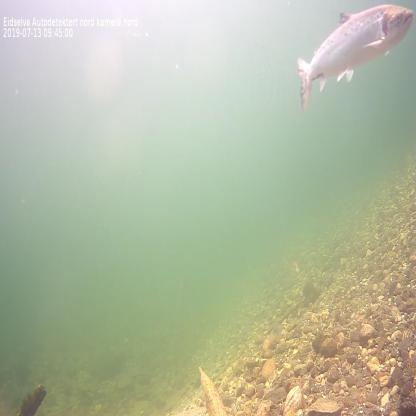salmon: (296, 0, 416, 113)
